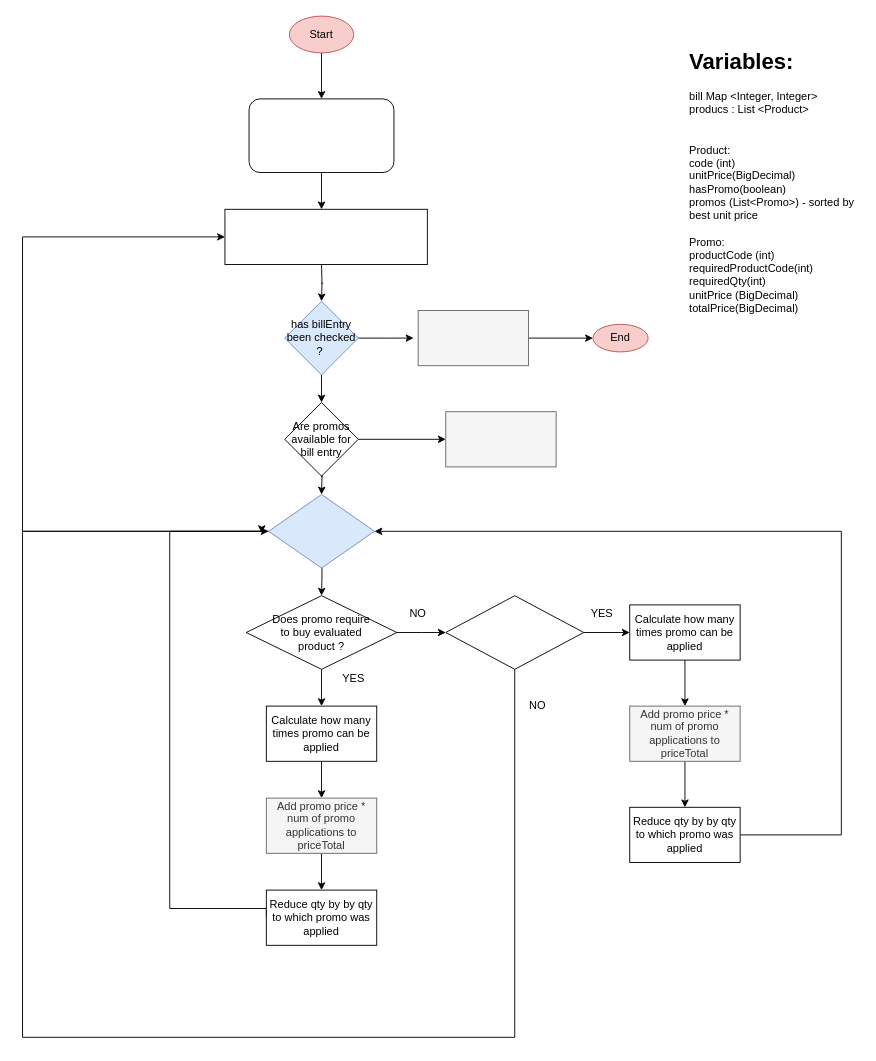
Image size: 876x1061. Some labels were removed from this diagram. Each missing label, with the centre of its shape:
"Add total price for entry to priceTotal" belongs at (x=500, y=439).
"Calculate qty for each product and save in bill (bill Map<Integer, Integer>" belongs at (x=321, y=135).
"for promo : product.promos" belongs at (x=321, y=531).
"get totlPrice" belongs at (x=473, y=338).
"is rquired qty of requiredproduct in bill" belongs at (x=514, y=632).
"take billEntry: qty = billEntryValue, product = producs.get(billEntry.key)" belongs at (x=325, y=236).
